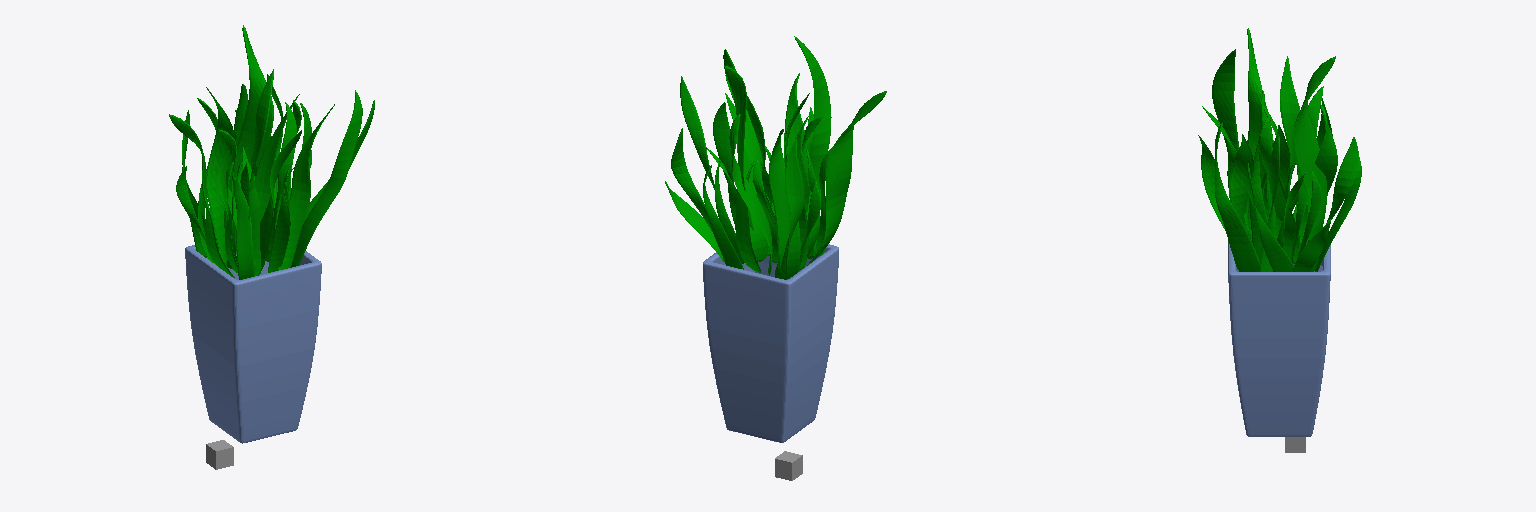
Rendered from plant.obj.
3 views of the same model, side by side, from view 1: azimuth 30°, elevation 25°; view 2: azimuth 150°, elevation 25°; view 3: azimuth 270°, elevation 25° (orthographic).
Parts seen in each view (by area): view 1: (null), Cube; view 2: (null), Cube; view 3: (null).
Boxes of the visible parts, box(x1,y1,x2,y2) form: (null): box(169, 25, 374, 443); Cube: box(206, 440, 233, 469); (null): box(665, 36, 886, 442); Cube: box(775, 451, 802, 480); (null): box(1198, 28, 1361, 436).
Bounding box in the file's own units: 33.14 × 63.53 × 22.8.